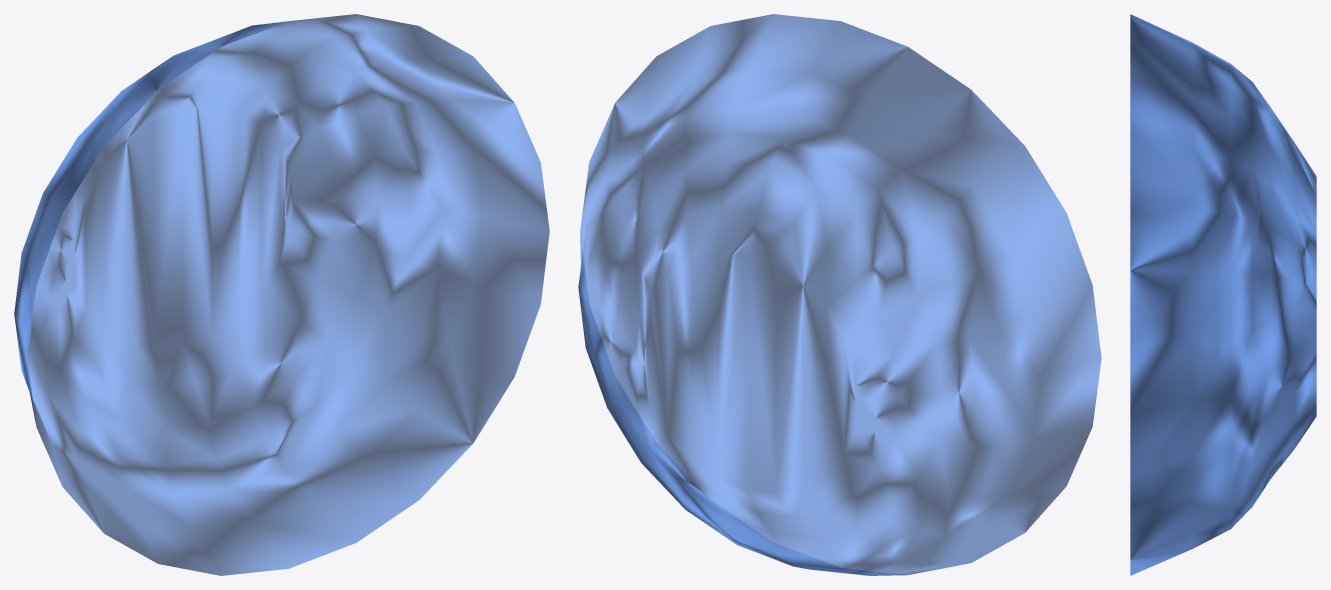
Rendered from model_align.obj.
The picture shows the model from 3 angles, left to right: view 1: azimuth 30°, elevation 25°; view 2: azimuth 150°, elevation 25°; view 3: azimuth 270°, elevation 25°; orthographic projection. The views are drawn at different scales.
Size of the model in its own units: 0.1672 by 0.1676 by 0.0553.
